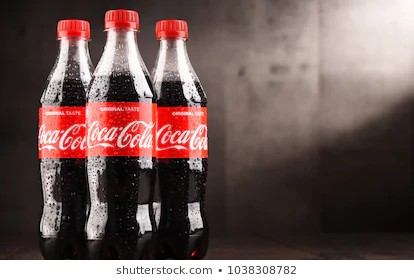coke-bottle-700ml: (85, 5, 155, 262), (35, 14, 97, 257), (151, 17, 211, 257)
